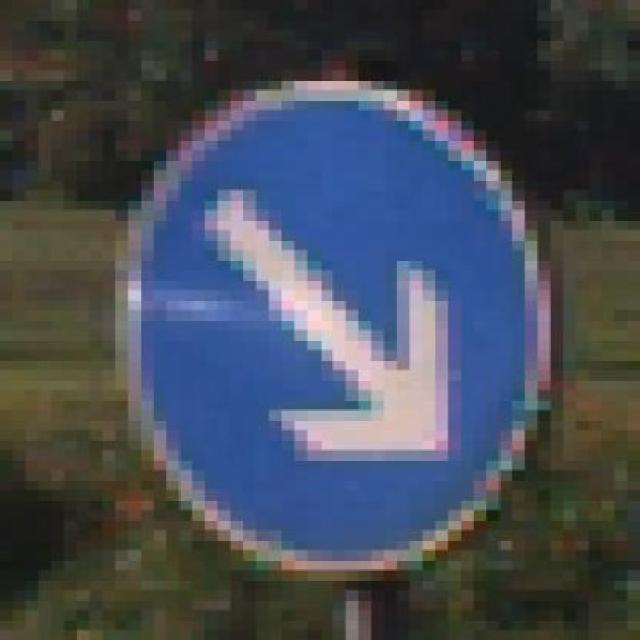Keep-Right: (76, 59, 576, 590)
